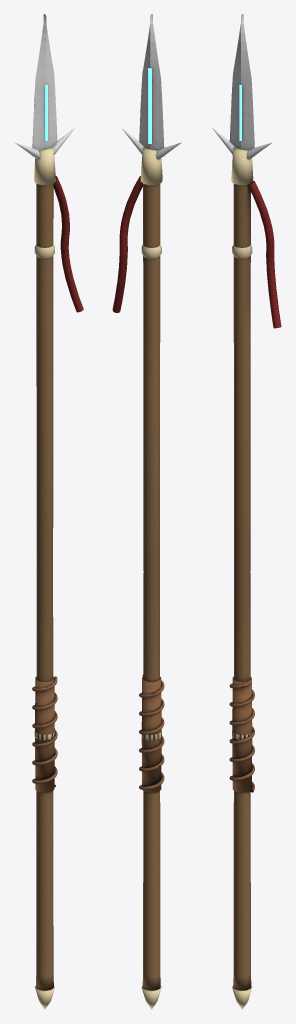
The model's file is arma_lanca_excelente.glb.
3 views of the same model, side by side, from view 1: azimuth 30°, elevation 25°; view 2: azimuth 150°, elevation 25°; view 3: azimuth 330°, elevation 25° (orthographic).
Visible parts, largest first — view 1: arma_lanca_excelente; view 2: arma_lanca_excelente, ponta_runa2; view 3: arma_lanca_excelente.
Part boxes in pixels (box(x1,y1,x2,y2)): arma_lanca_excelente: box(14, 14, 83, 1009); arma_lanca_excelente: box(112, 14, 181, 1009); ponta_runa2: box(148, 68, 151, 143); arma_lanca_excelente: box(212, 14, 281, 1009).
Bounding box in the file's own units: 0.1577 × 2.16 × 0.0504.
3 materials, 1 textured.
